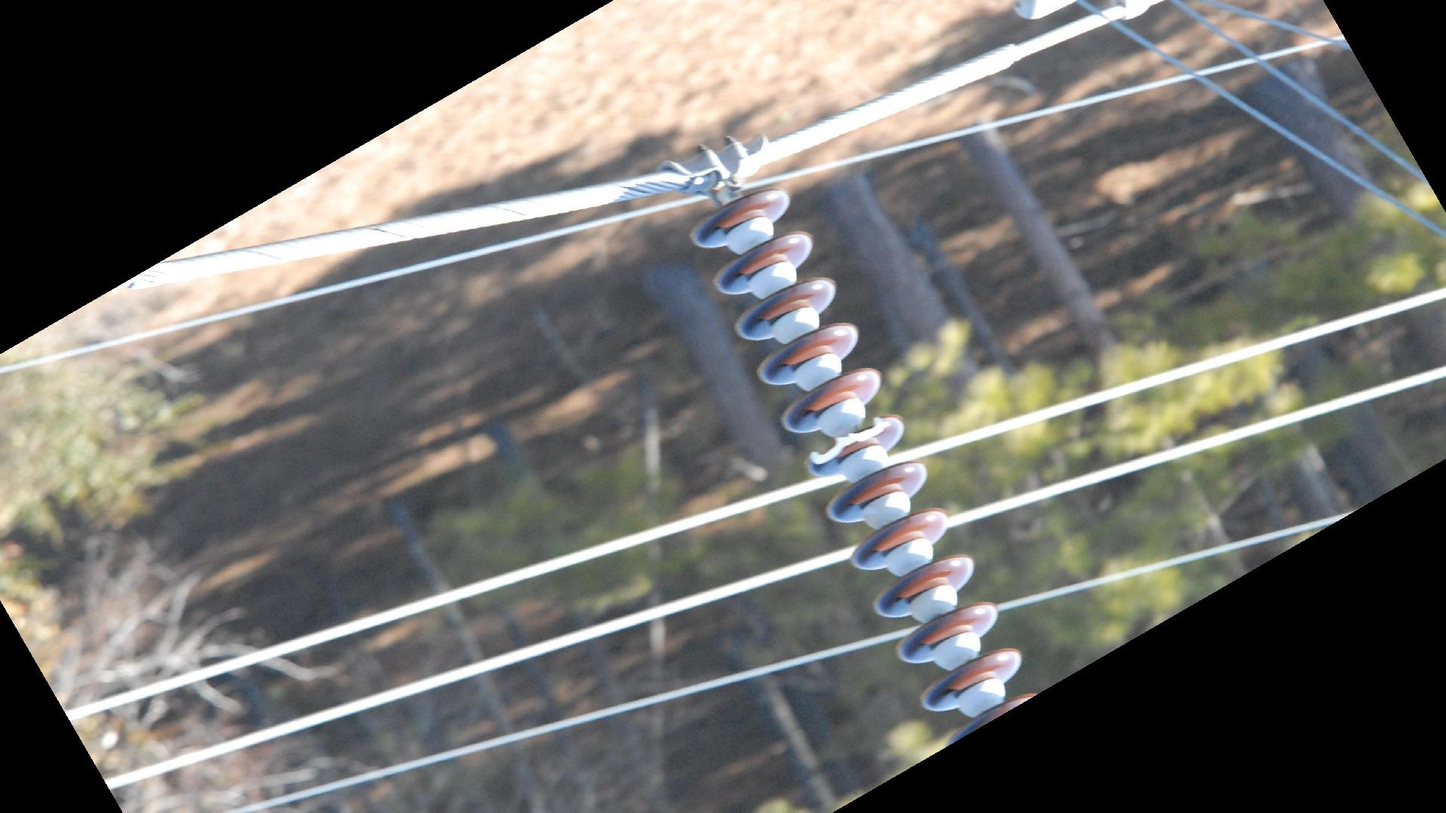insulator: (685, 182, 1046, 757)
insulator_breakage: (805, 412, 889, 470)
